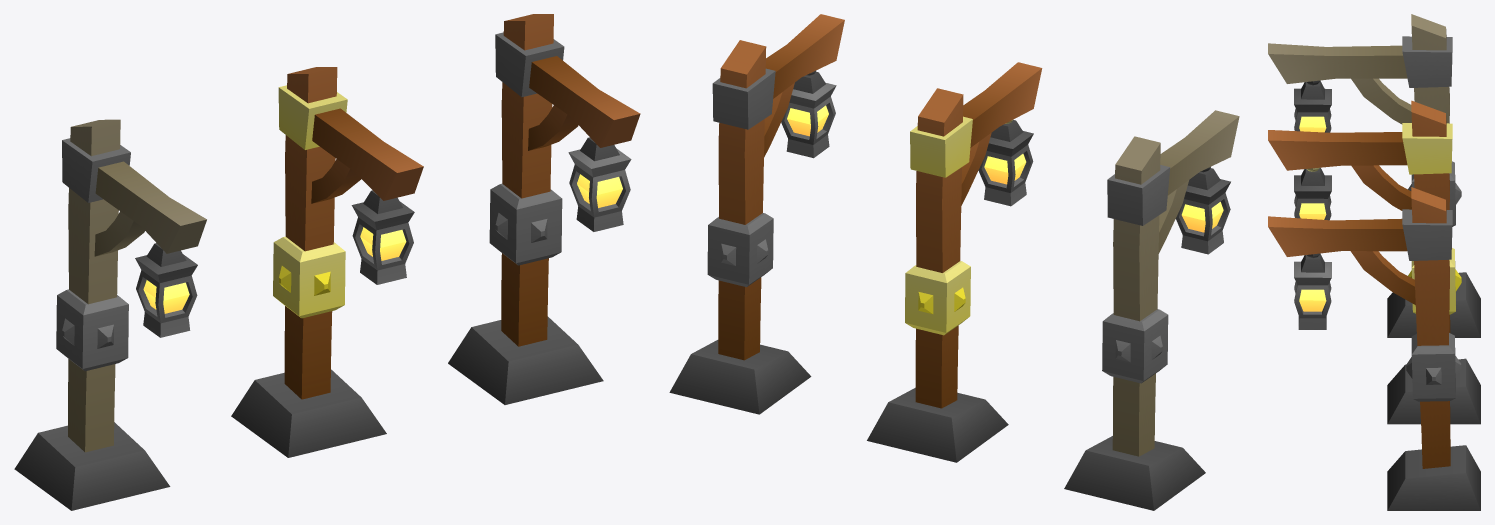
Rendered from Lamps.fbx.
3 views of the same model, side by side, from view 1: azimuth 30°, elevation 25°; view 2: azimuth 150°, elevation 25°; view 3: azimuth 270°, elevation 25° (orthographic). The views are drawn at different scales.
Parts seen in each view (by area): view 1: Lamp.001, Lamp, Lamp.002; view 2: Lamp.001, Lamp.002, Lamp; view 3: Lamp.002, Lamp.001, Lamp.
Boxes of the visible parts, x1=… form: Lamp.001: x1=231, y1=67, x2=423, y2=457; Lamp: x1=14, y1=119, x2=206, y2=510; Lamp.002: x1=448, y1=14, x2=640, y2=404; Lamp.001: x1=867, y1=62, x2=1042, y2=462; Lamp.002: x1=669, y1=14, x2=844, y2=414; Lamp: x1=1064, y1=110, x2=1239, y2=510; Lamp.002: x1=1268, y1=187, x2=1480, y2=510; Lamp.001: x1=1268, y1=100, x2=1480, y2=424; Lamp: x1=1268, y1=14, x2=1480, y2=337.
Size of the model in its own units: 491 by 322 by 208.
1 material, 1 textured.
